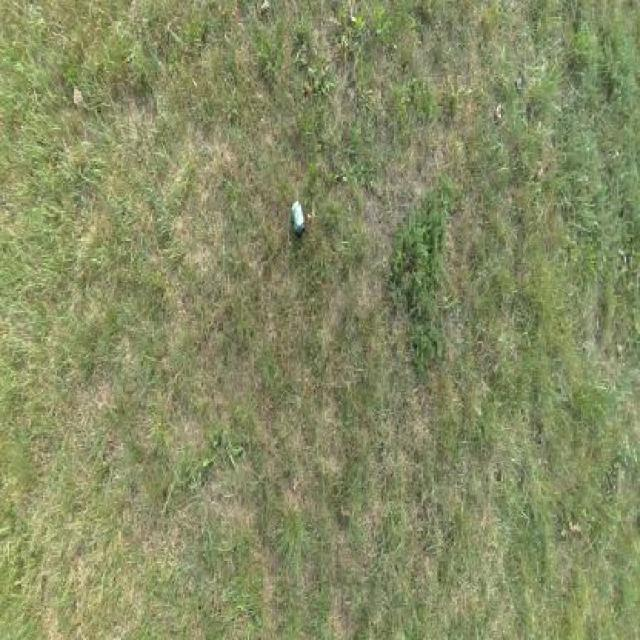Garbage: (290, 202, 305, 234)
